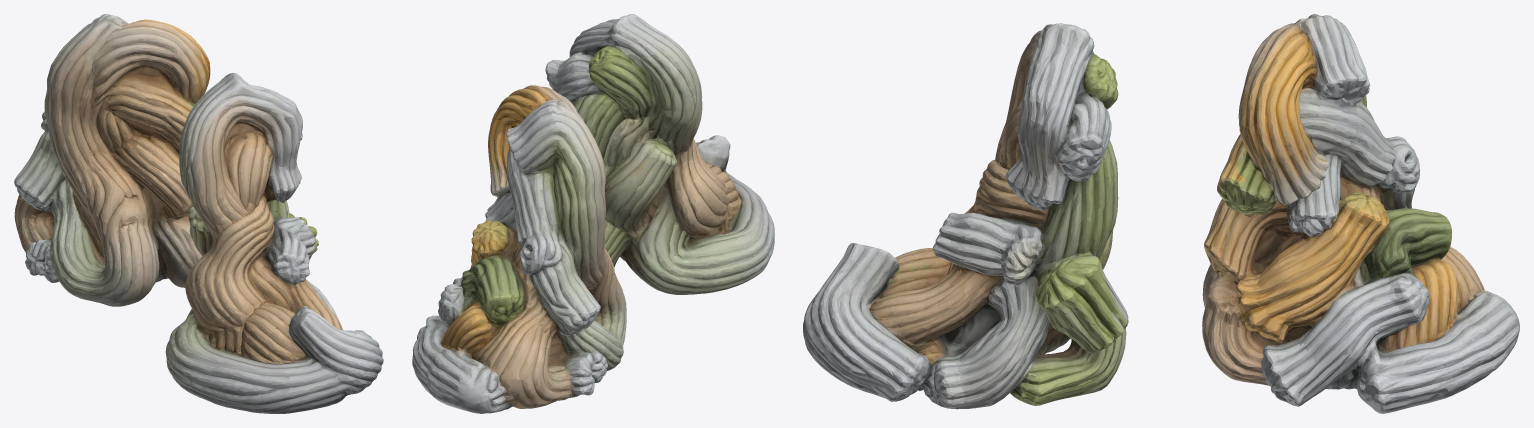
File: 05_3_js_brq_bookend2.glb
3 views of the same model, side by side, from view 1: azimuth 30°, elevation 25°; view 2: azimuth 150°, elevation 25°; view 3: azimuth 270°, elevation 25° (orthographic). The views are drawn at different scales.
Parts seen in each view (by area): view 1: tripo_node_ce7b7270-dfee-40e5-b33e-20417dcd1445; view 2: tripo_node_ce7b7270-dfee-40e5-b33e-20417dcd1445; view 3: tripo_node_ce7b7270-dfee-40e5-b33e-20417dcd1445.
Part boxes in pixels (x1,y1,x2,y2): tripo_node_ce7b7270-dfee-40e5-b33e-20417dcd1445: [14, 14, 383, 413]; tripo_node_ce7b7270-dfee-40e5-b33e-20417dcd1445: [412, 14, 774, 413]; tripo_node_ce7b7270-dfee-40e5-b33e-20417dcd1445: [803, 14, 1519, 413].
Size of the model in its own units: 0.1121 by 0.16 by 0.3013.
1 material, 1 textured.
